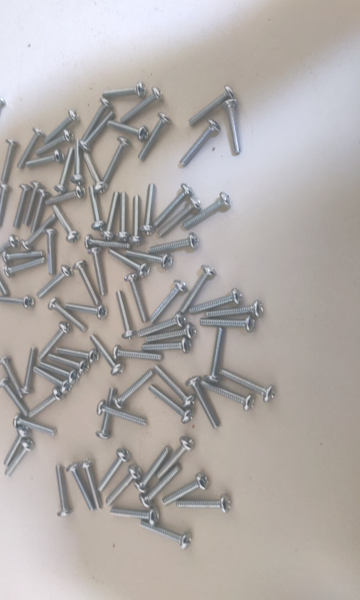longscrew: (172, 121, 220, 169), (144, 385, 196, 426), (142, 464, 183, 513), (157, 435, 198, 484), (184, 377, 221, 431), (149, 363, 196, 405), (96, 136, 133, 187), (196, 381, 258, 411), (183, 195, 233, 232), (147, 282, 187, 328), (115, 367, 154, 414), (218, 370, 277, 401), (140, 522, 194, 555), (190, 87, 234, 126), (119, 89, 164, 127), (183, 264, 217, 314), (136, 114, 171, 162), (155, 185, 190, 231), (166, 472, 207, 511), (159, 199, 198, 240), (138, 445, 169, 496), (201, 326, 228, 384), (192, 288, 243, 318), (76, 100, 112, 141), (91, 384, 118, 438), (89, 334, 124, 375), (108, 466, 139, 511), (98, 447, 129, 492), (80, 110, 114, 149), (47, 205, 79, 246), (80, 461, 106, 511), (108, 248, 151, 278), (176, 495, 232, 518), (42, 110, 81, 143), (41, 321, 73, 361), (137, 310, 186, 336), (28, 385, 65, 419), (49, 299, 87, 332), (36, 265, 69, 303), (66, 465, 93, 511), (10, 131, 41, 171), (95, 403, 151, 425), (49, 146, 74, 194), (21, 216, 56, 250), (10, 414, 61, 437), (198, 316, 259, 335), (204, 302, 265, 321), (222, 97, 241, 158), (124, 273, 147, 323), (6, 438, 35, 477), (3, 427, 32, 466), (15, 345, 37, 396), (149, 236, 201, 257), (0, 379, 28, 417), (74, 263, 99, 305), (138, 182, 158, 234), (18, 181, 41, 226), (56, 343, 99, 367), (98, 189, 119, 238), (35, 131, 73, 158), (103, 120, 149, 142), (0, 357, 24, 399), (83, 151, 107, 193), (115, 289, 135, 339), (41, 361, 78, 388), (8, 186, 31, 229), (34, 365, 70, 392), (52, 352, 88, 379), (40, 224, 59, 275), (122, 251, 175, 269), (112, 506, 162, 525), (27, 188, 47, 235), (139, 326, 194, 343), (41, 187, 86, 207), (0, 292, 37, 316), (91, 242, 106, 300), (63, 303, 110, 321), (55, 463, 70, 516), (0, 140, 18, 184), (102, 82, 146, 100), (5, 259, 44, 279), (84, 236, 131, 252), (27, 149, 64, 169), (128, 191, 141, 244), (68, 136, 82, 183), (142, 341, 193, 353), (116, 192, 129, 239), (4, 249, 44, 264), (113, 349, 164, 360), (89, 186, 100, 231), (0, 182, 10, 230), (0, 235, 17, 263), (0, 253, 8, 296), (0, 94, 6, 141)
